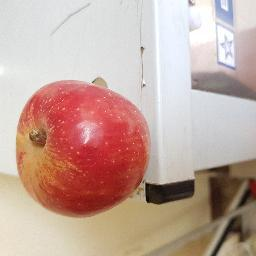Good_apple: (12, 75, 150, 225)
